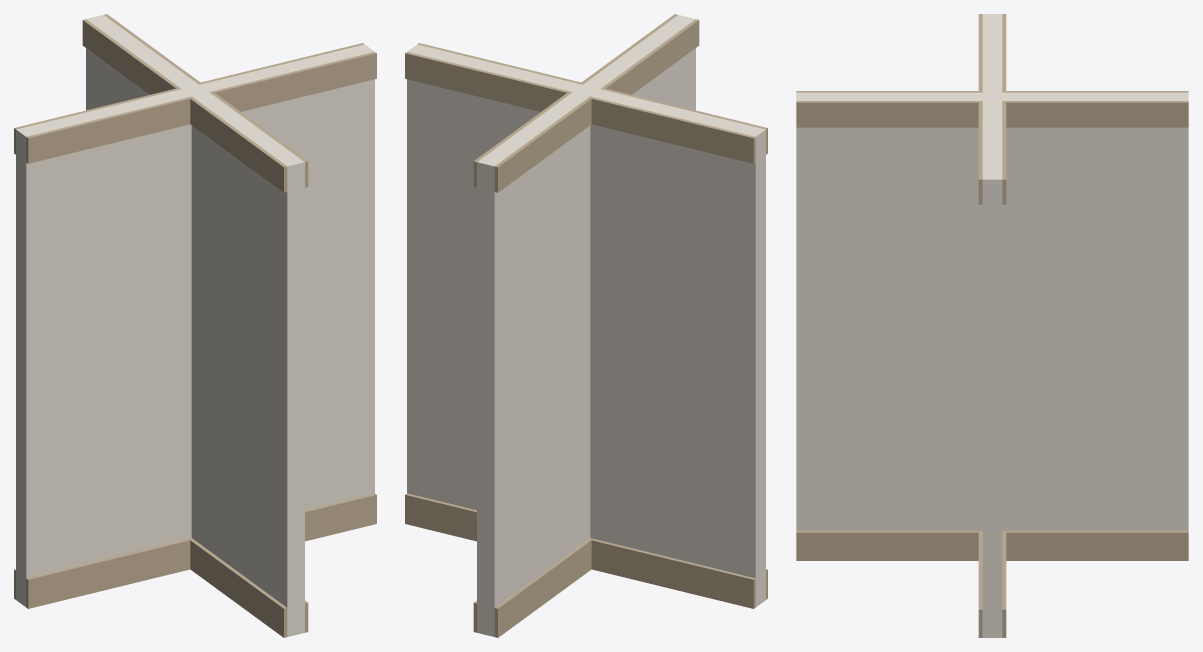
File: partitionCross.glb
3 renders of one model, left to right at view 1: azimuth 30°, elevation 25°; view 2: azimuth 150°, elevation 25°; view 3: azimuth 270°, elevation 25°, orthographic. The views are drawn at different scales.
Visible parts, largest first — view 1: partitionCross; view 2: partitionCross; view 3: partitionCross.
Part boxes in pixels (x1,y1,x2,y2): partitionCross: (14,14,376,637); partitionCross: (405,14,767,637); partitionCross: (796,14,1188,637).
Size of the model in its own units: 1 by 1.29 by 1.
1 material, 1 textured.
